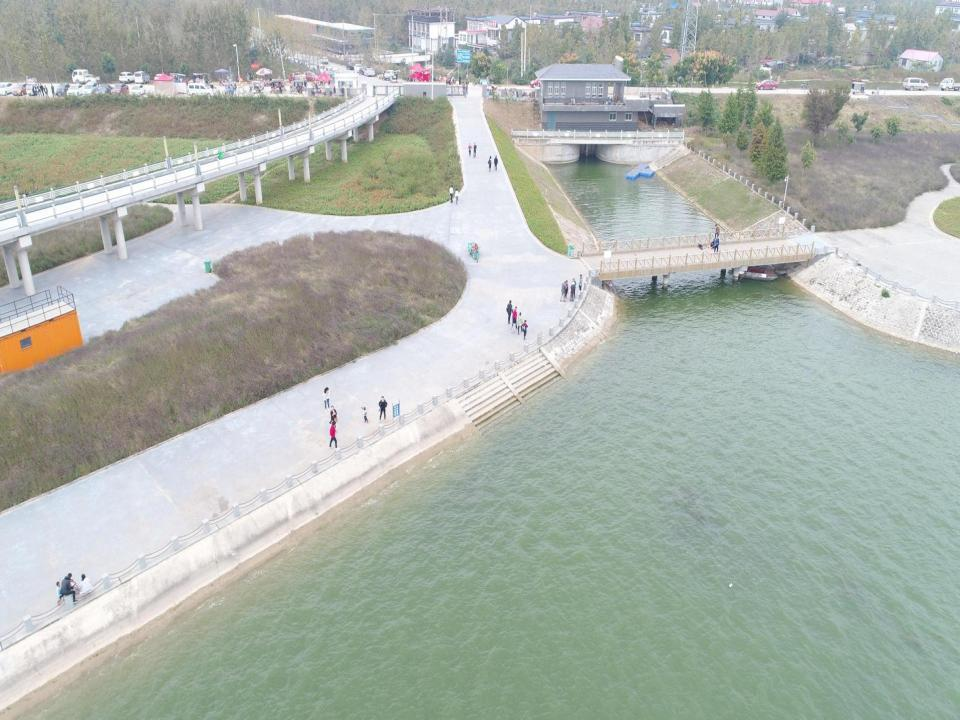car: (109, 83, 130, 98), (528, 76, 550, 90), (117, 70, 137, 85), (96, 83, 114, 99), (0, 78, 15, 96), (756, 79, 778, 91), (12, 81, 28, 97), (66, 83, 84, 97), (55, 83, 71, 97), (130, 83, 146, 97), (152, 72, 166, 88), (302, 71, 320, 83), (304, 70, 320, 83), (384, 68, 398, 81), (364, 66, 376, 77), (315, 63, 326, 74), (330, 66, 341, 77), (353, 63, 363, 73), (346, 61, 356, 71), (359, 66, 369, 75), (320, 55, 329, 65), (323, 65, 333, 74), (302, 58, 310, 69), (306, 61, 315, 70), (293, 56, 301, 64), (298, 59, 304, 65)
truck: (71, 68, 102, 86), (938, 76, 959, 92)
van: (900, 75, 929, 92), (187, 81, 215, 98), (81, 80, 100, 98), (134, 70, 151, 86)
